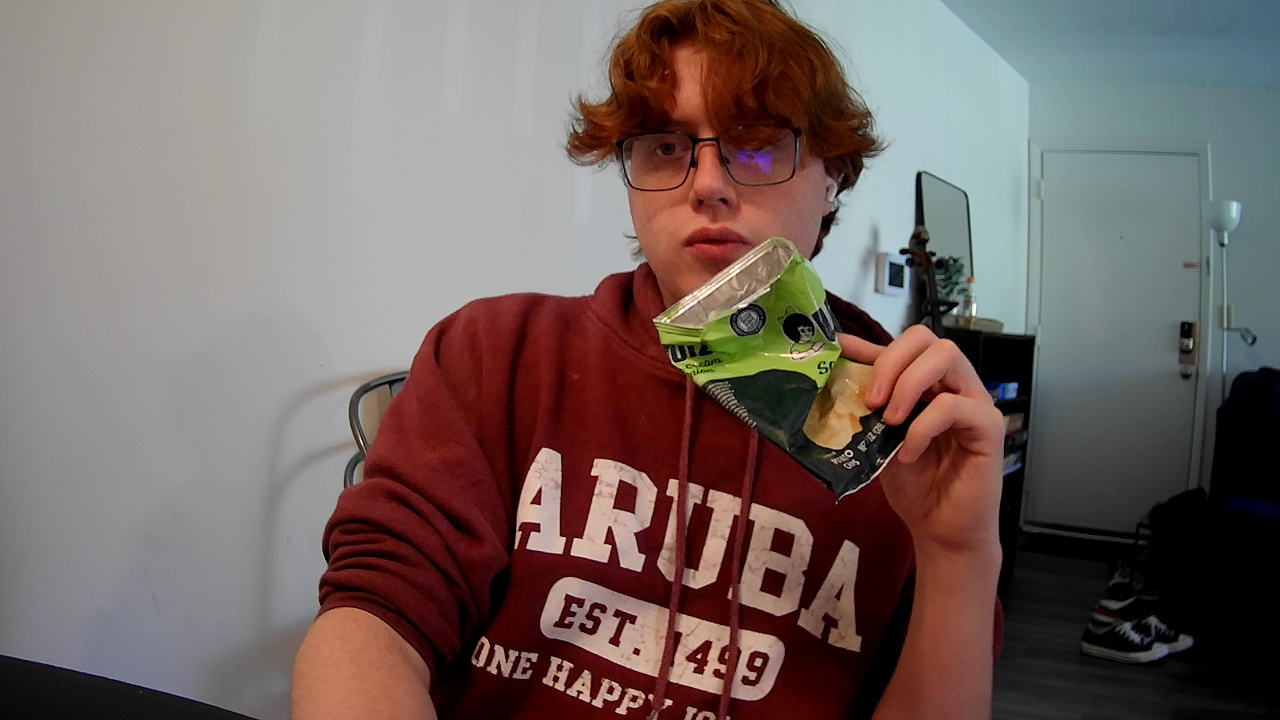trash: (632, 232, 989, 531)
